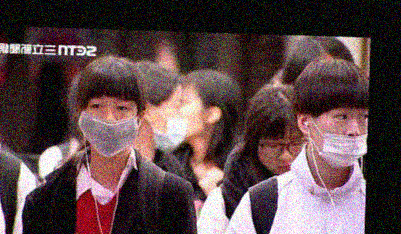mask_weared_incorrect: (308, 109, 367, 169)
with_mask: (77, 99, 138, 160), (152, 96, 189, 154)
without_mask: (256, 133, 308, 178)
